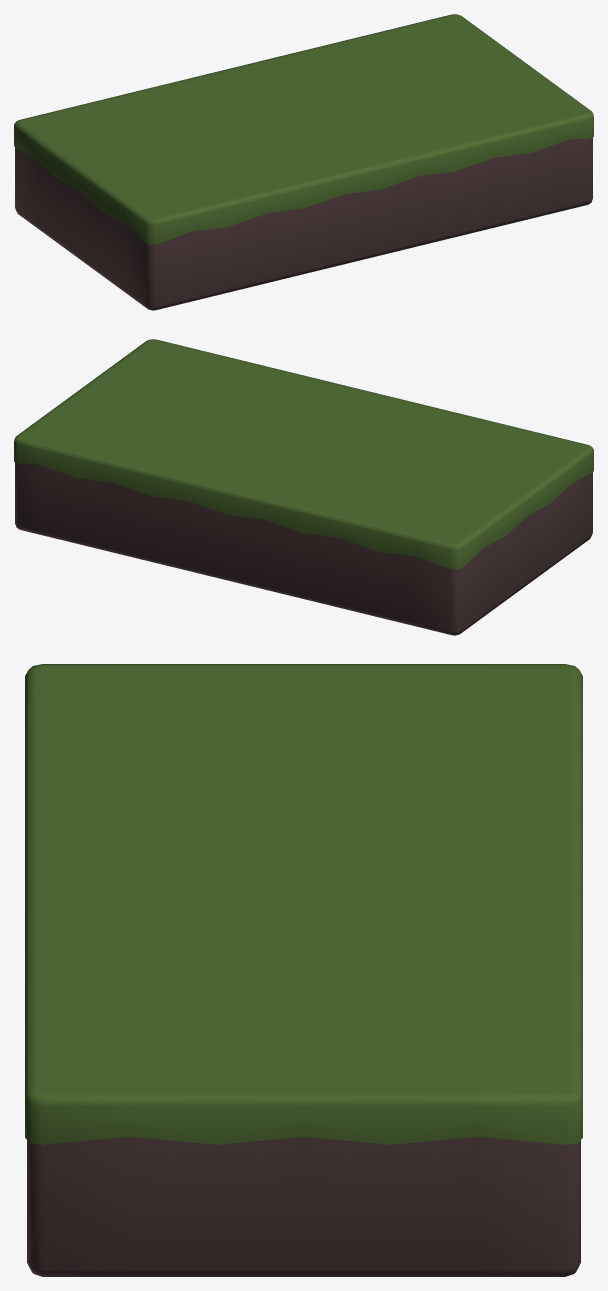
Rendered from Tile3x6.fbx.
3 views of the same model, one above another, from view 1: azimuth 30°, elevation 25°; view 2: azimuth 150°, elevation 25°; view 3: azimuth 270°, elevation 25° (orthographic). The views are drawn at different scales.
Visible parts, largest first — view 1: Tile-3x3.001; view 2: Tile-3x3.001; view 3: Tile-3x3.001.
Boxes of the visible parts, box(x1,y1,x2,y2) form: Tile-3x3.001: box(14, 14, 593, 310); Tile-3x3.001: box(14, 339, 593, 635); Tile-3x3.001: box(25, 664, 582, 1276).
Size of the model in its own units: 10.1 by 2 by 5.45.
